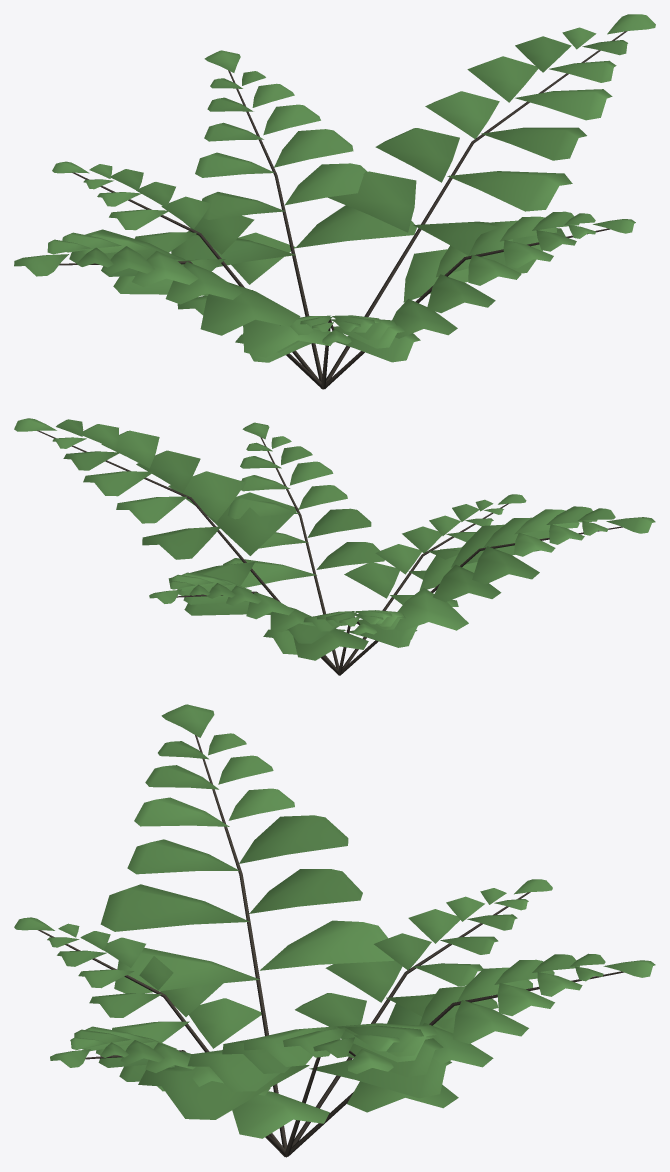
The model's file is maidenhair_fern.glb.
3 renders of one model, top to bottom at view 1: azimuth 30°, elevation 25°; view 2: azimuth 150°, elevation 25°; view 3: azimuth 270°, elevation 25°, orthographic. The views are drawn at different scales.
Parts seen in each view (by area): view 1: maidenhair_fern; view 2: maidenhair_fern; view 3: maidenhair_fern.
Boxes of the visible parts, x1=… form: maidenhair_fern: x1=14, y1=14, x2=655, y2=389; maidenhair_fern: x1=14, y1=418, x2=655, y2=675; maidenhair_fern: x1=14, y1=704, x2=655, y2=1157.
Bounding box in the file's own units: 0.7575 × 0.2645 × 0.5342.
